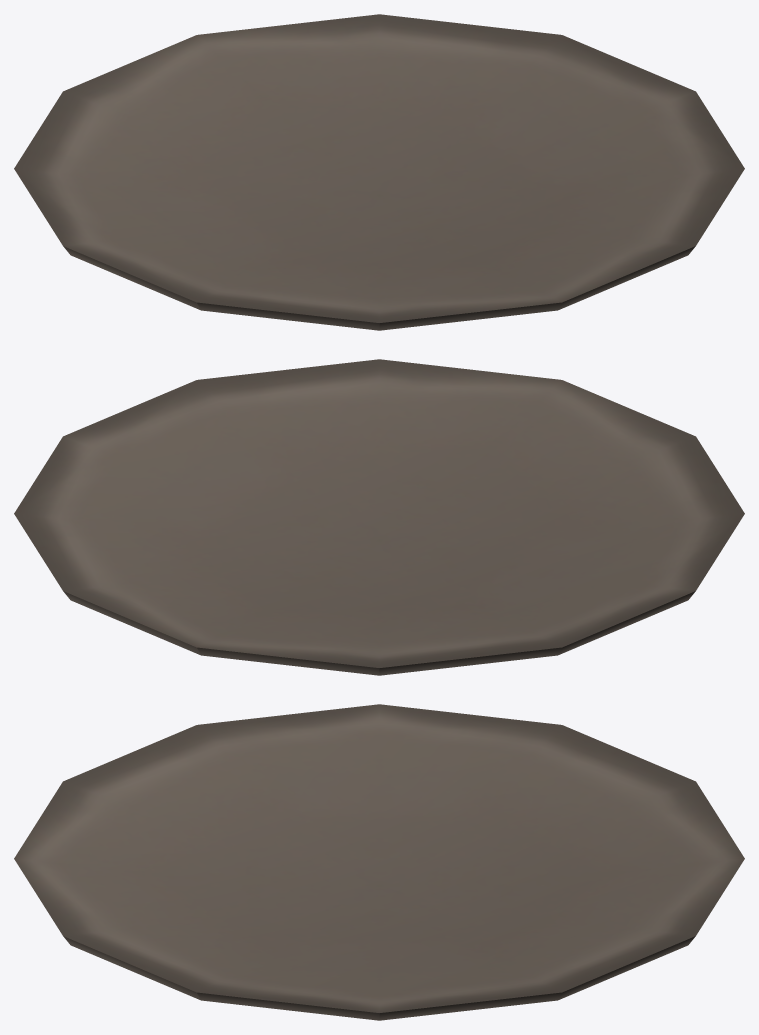
Rendered from Plate.fbx.
3 renders of one model, top to bottom at view 1: azimuth 30°, elevation 25°; view 2: azimuth 150°, elevation 25°; view 3: azimuth 270°, elevation 25°, orthographic.
Visible parts, largest first — view 1: DinnerScene:Plate1; view 2: DinnerScene:Plate1; view 3: DinnerScene:Plate1.
Part boxes in pixels (left/top/right/bottom): DinnerScene:Plate1: left=14, top=14, right=744, bottom=330; DinnerScene:Plate1: left=14, top=359, right=744, bottom=675; DinnerScene:Plate1: left=14, top=704, right=744, bottom=1020.
Bounding box in the file's own units: 4.88 × 0.351 × 4.88.
